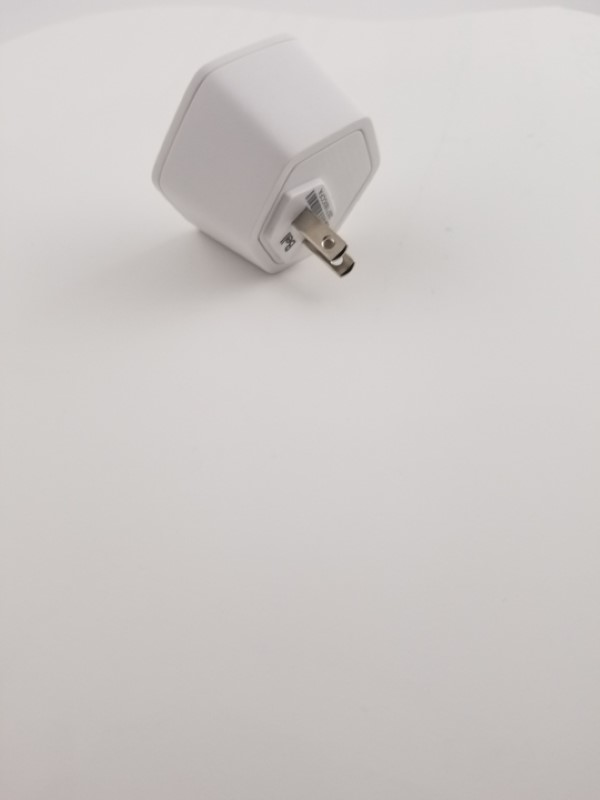pod: (147, 30, 391, 289)
